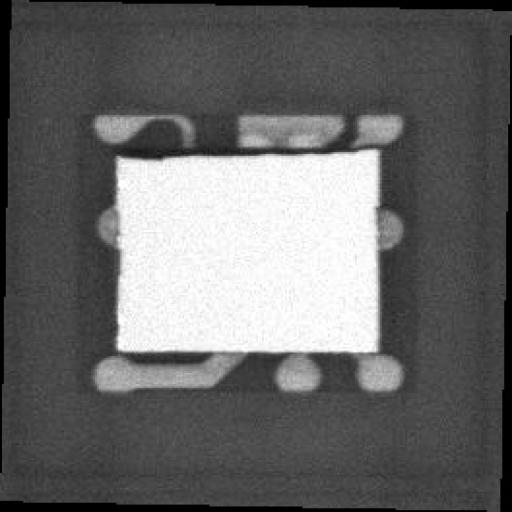DIE_BROKEN: (112, 145, 372, 161)
